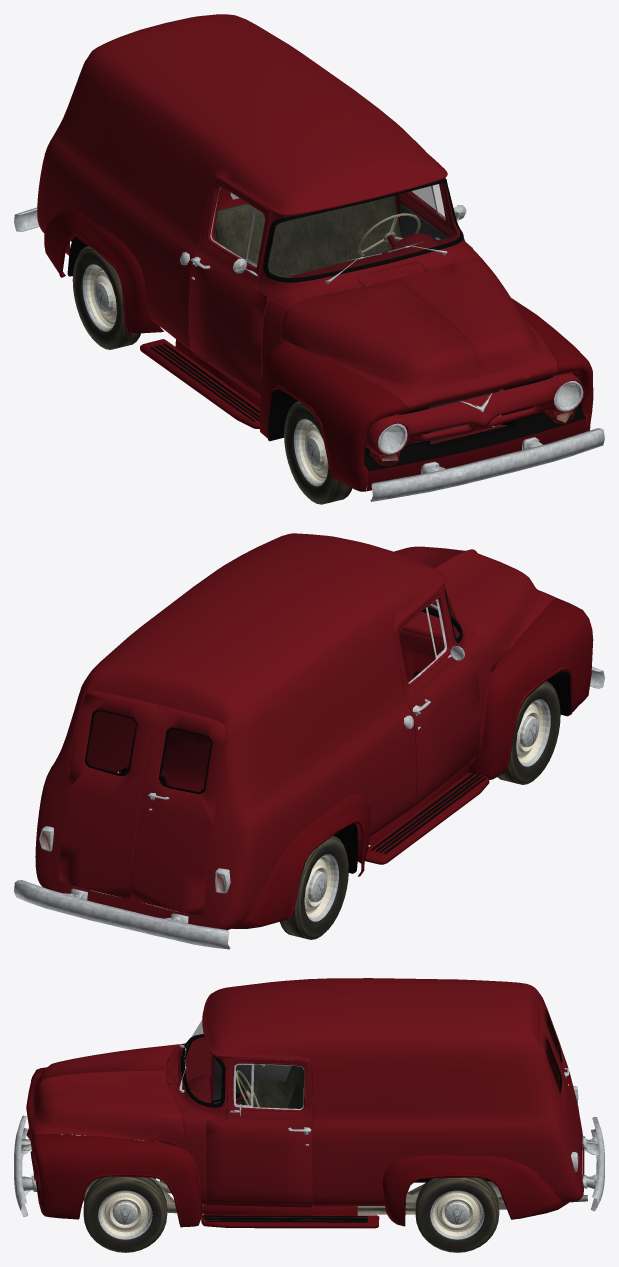
Rendered from veh_van50.glb.
The picture shows the model from 3 angles, top to bottom: view 1: azimuth 30°, elevation 25°; view 2: azimuth 150°, elevation 25°; view 3: azimuth 270°, elevation 25°; orthographic projection. The views are drawn at different scales.
Parts seen in each view (by area): view 1: Sketchup.026_4, Cylinder.104_3, Cylinder.097_2; view 2: Sketchup.026_4, Cylinder.104_3, Cylinder.097_2; view 3: Sketchup.026_4, Cylinder.084_0, Cylinder.088_1.
Part boxes in pixels (x1,y1,x2,y2): Sketchup.026_4: (14,14,604,501); Cylinder.104_3: (72,246,140,349); Cylinder.097_2: (284,401,352,504); Sketchup.026_4: (14,533,604,949); Cylinder.104_3: (280,836,348,939); Cylinder.097_2: (497,681,560,784); Sketchup.026_4: (14,978,604,1228); Cylinder.084_0: (83,1176,167,1252); Cylinder.088_1: (415,1177,499,1252).
Size of the model in its own units: 2.41 by 2.48 by 6.24.
Materials: 19 (6 with a texture image).
